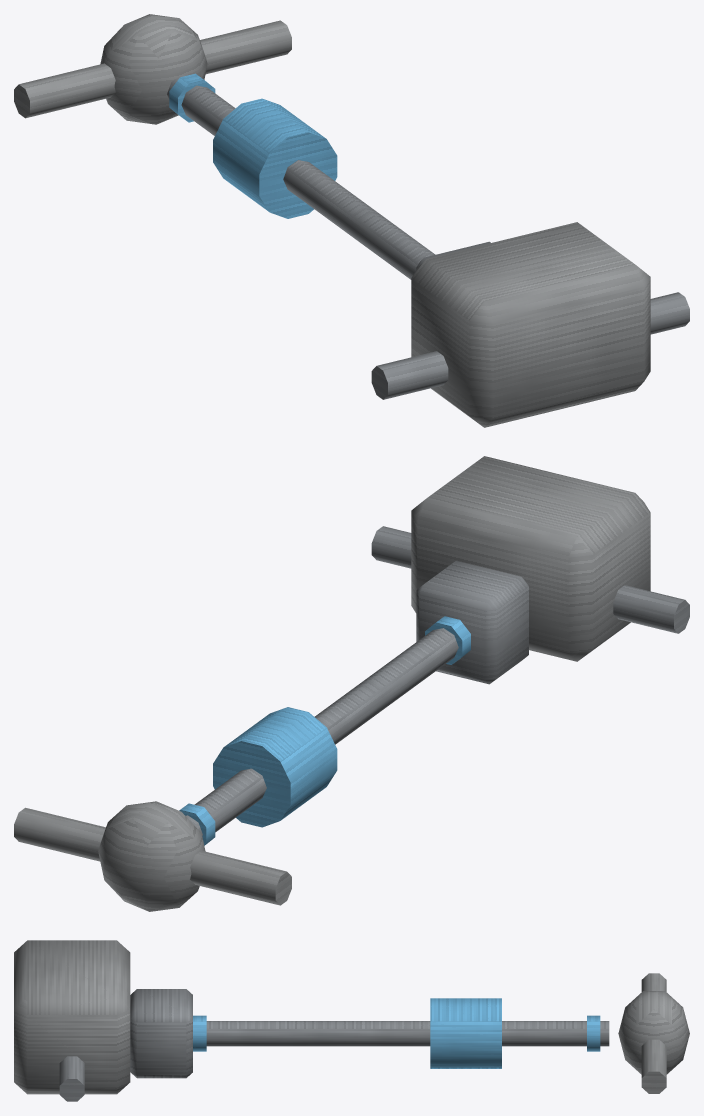
The model's file is conversao_tracao_n1.glb.
3 renders of one model, top to bottom at view 1: azimuth 30°, elevation 25°; view 2: azimuth 150°, elevation 25°; view 3: azimuth 270°, elevation 25°, orthographic. The views are drawn at different scales.
Visible parts, largest first — view 1: conversao_tracao_n1; view 2: conversao_tracao_n1; view 3: conversao_tracao_n1.
Boxes of the visible parts, bbox=[...] form: conversao_tracao_n1: bbox=[14, 14, 689, 427]; conversao_tracao_n1: bbox=[14, 456, 689, 911]; conversao_tracao_n1: bbox=[14, 940, 689, 1101].
Size of the model in its own units: 0.6 by 0.26 by 1.51.
Materials: 1 (1 with a texture image).
